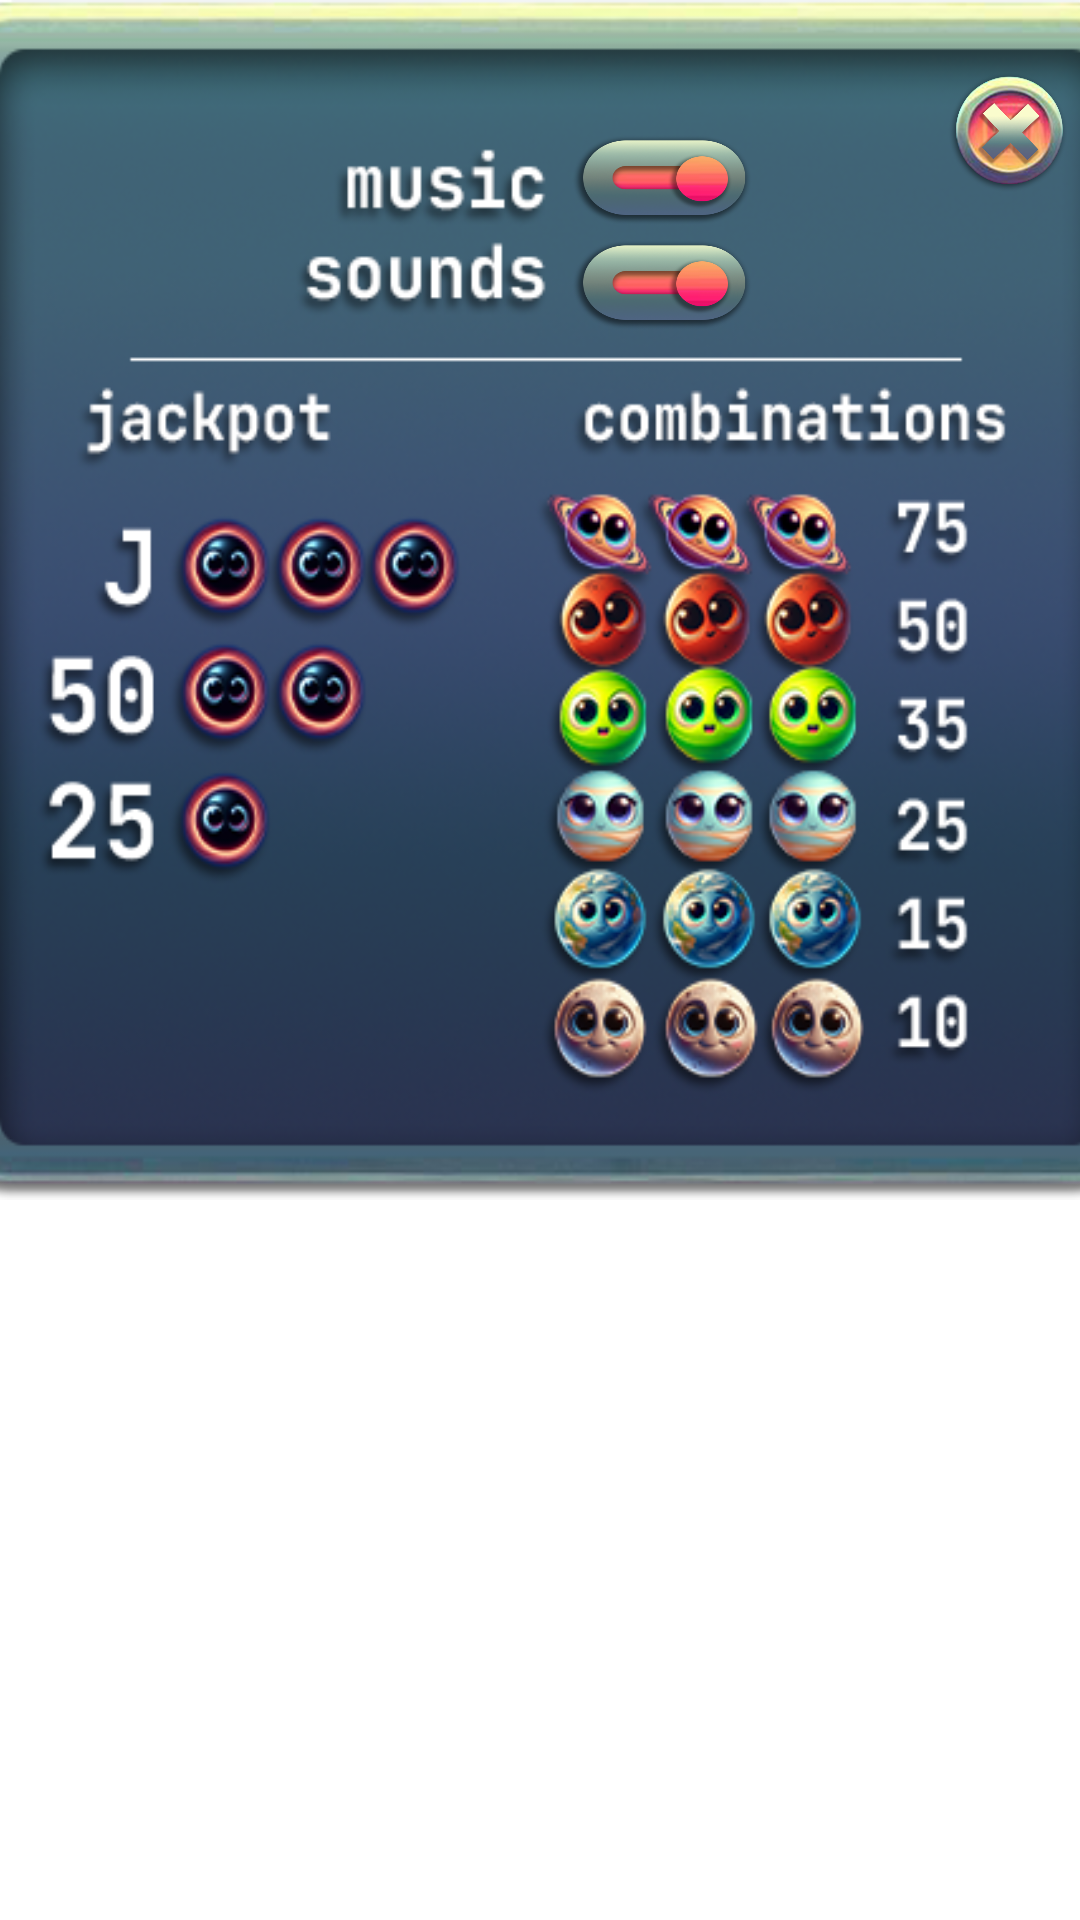

Screen size 1080*1920. Icon name, then its center in pixels as [x,y]:
close: [1008,131]
